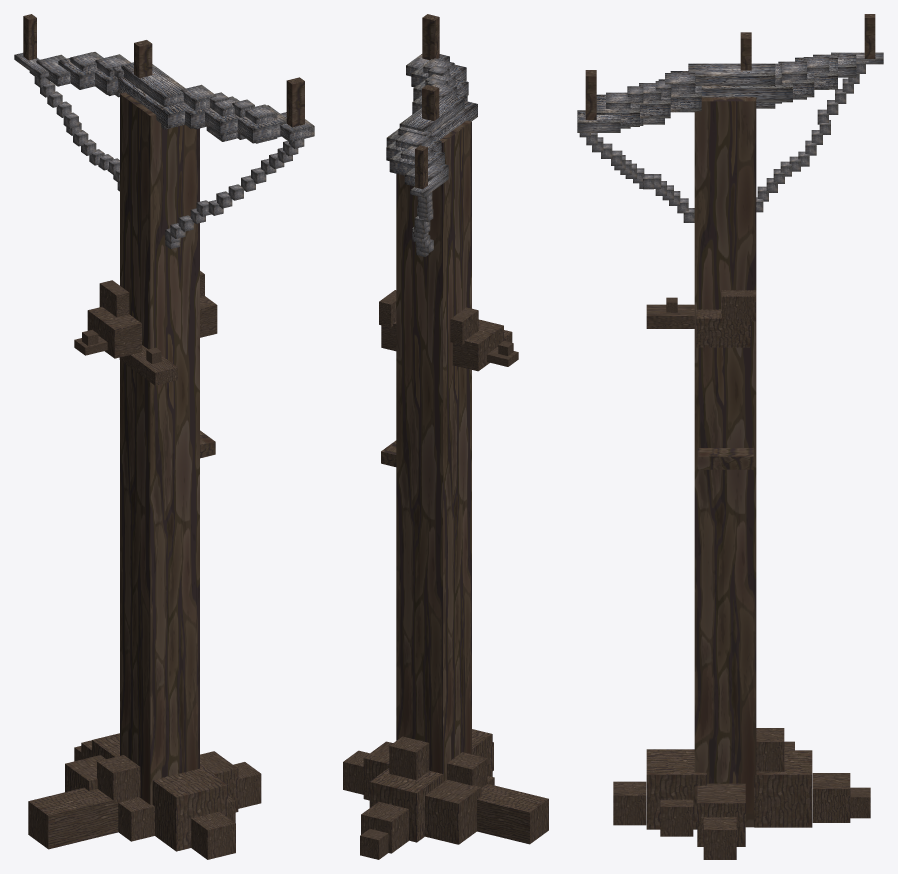
Rendered from lamp_VM.obj.
The picture shows the model from 3 angles, left to right: view 1: azimuth 30°, elevation 25°; view 2: azimuth 150°, elevation 25°; view 3: azimuth 270°, elevation 25°; orthographic projection. The views are drawn at different scales.
Visible parts, largest first — view 1: Box001; view 2: Box001; view 3: Box001.
Boxes of the visible parts, x1=… form: Box001: x1=14, y1=14, x2=314, y2=859; Box001: x1=343, y1=14, x2=548, y2=859; Box001: x1=577, y1=14, x2=883, y2=859.
Size of the model in its own units: 1.26 by 4.47 by 1.6.
